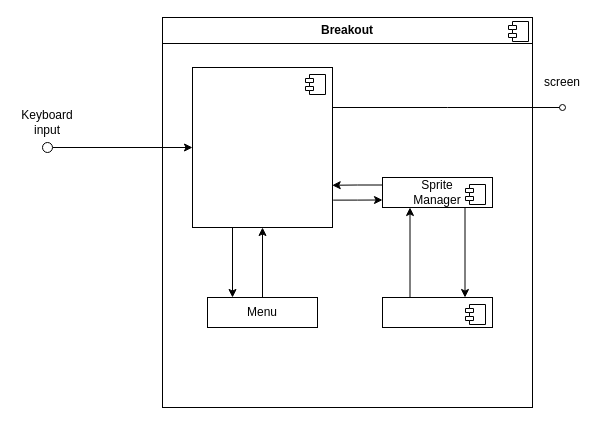
This 609x425 diagram has some shape labels left out. The shapes that lost their labels are listed below. From the top down, each one's box as (x1, y1, x2, y2) in pixels, then its label:
(192, 66, 332, 228): Event Handler
(382, 296, 492, 328): Powerup manager
